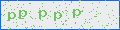p: (39, 10, 47, 20), (54, 12, 62, 21), (19, 10, 27, 19), (8, 12, 16, 21), (73, 9, 80, 18)
